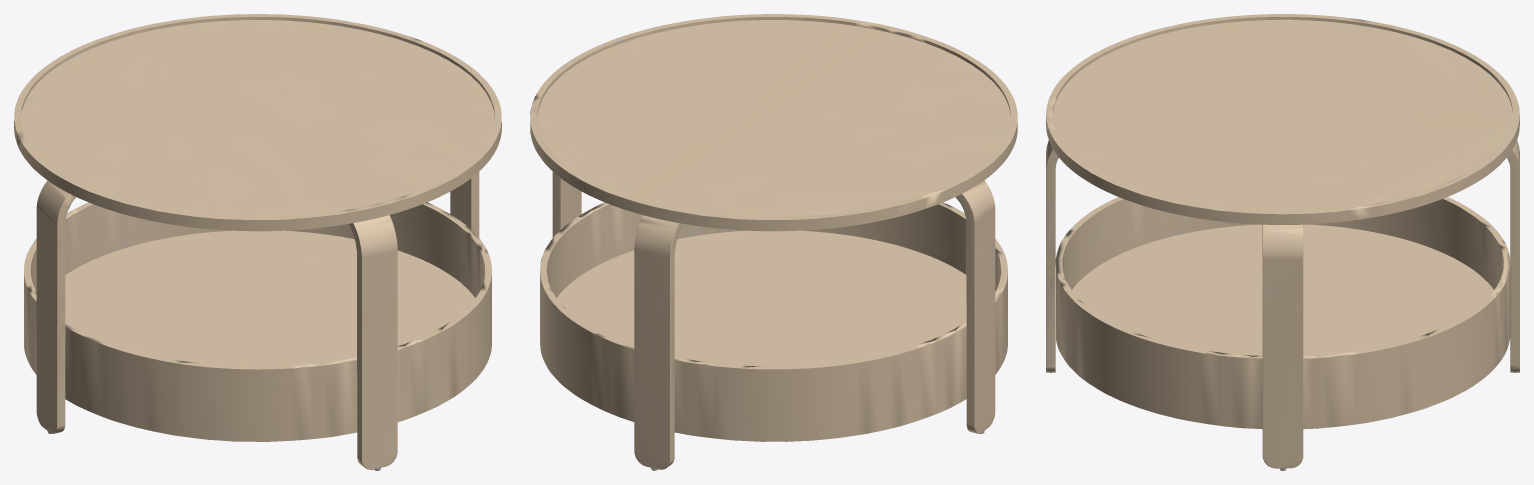
3 renders of one model, left to right at view 1: azimuth 30°, elevation 25°; view 2: azimuth 150°, elevation 25°; view 3: azimuth 270°, elevation 25°, orthographic. The views are drawn at different scales.
Visible parts, largest first — view 1: Mesh_0; view 2: Mesh_0; view 3: Mesh_0.
Part boxes in pixels (x1,y1,x2,y2): Mesh_0: (14,14,501,470); Mesh_0: (530,14,1017,470); Mesh_0: (1046,14,1519,470).
Bounding box in the file's own units: 0.7 × 0.4199 × 0.7.
1 material, 1 textured.
